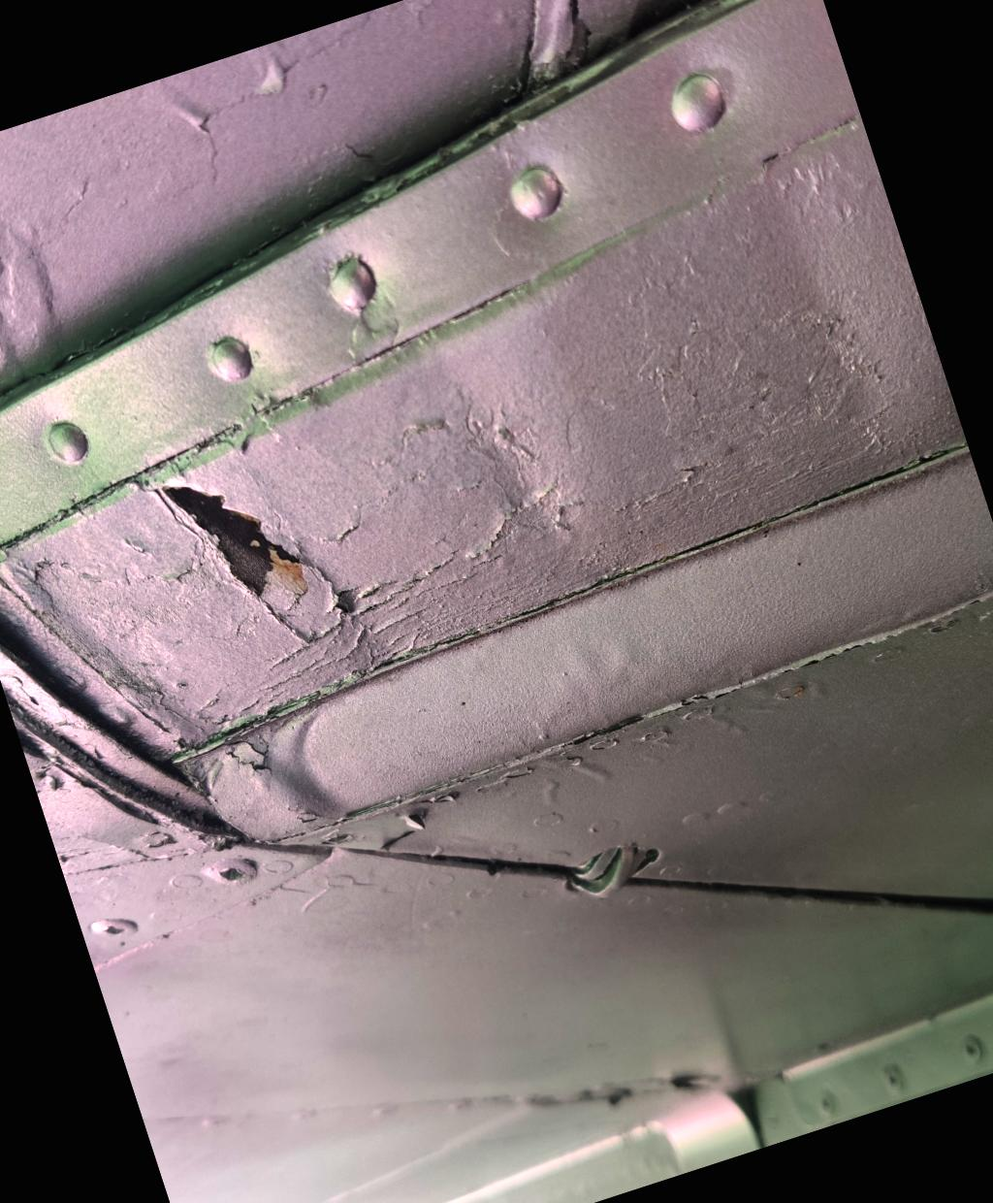crack: (123, 423, 332, 638)
